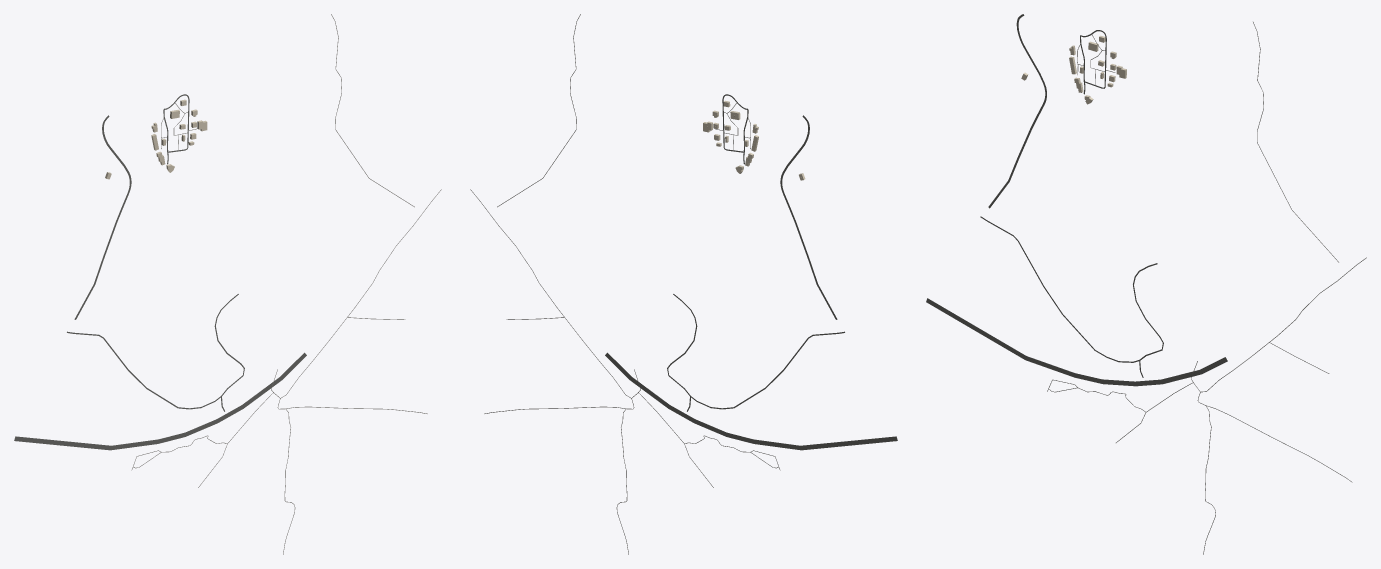
The model's file is historic-palestine-08_31_3497_3258.glb.
3 views of the same model, side by side, from view 1: azimuth 30°, elevation 25°; view 2: azimuth 150°, elevation 25°; view 3: azimuth 330°, elevation 25° (orthographic). The views are drawn at different scales.
Parts seen in each view (by area): view 1: Road ואדי מילק, Road .002; view 2: Road ואדי מילק, Road .002; view 3: Road ואדי מילק, Road .002.
Boxes of the visible parts, x1,y1,x2,y2 form: Road ואדי מילק: (14, 352, 306, 450); Road .002: (67, 294, 244, 409); Road ואדי מילק: (605, 352, 897, 450); Road .002: (667, 294, 844, 409); Road ואדי מילק: (926, 298, 1227, 386); Road .002: (980, 216, 1163, 362).
Bounding box in the file's own units: 1190 × 1407 × 8.7.
